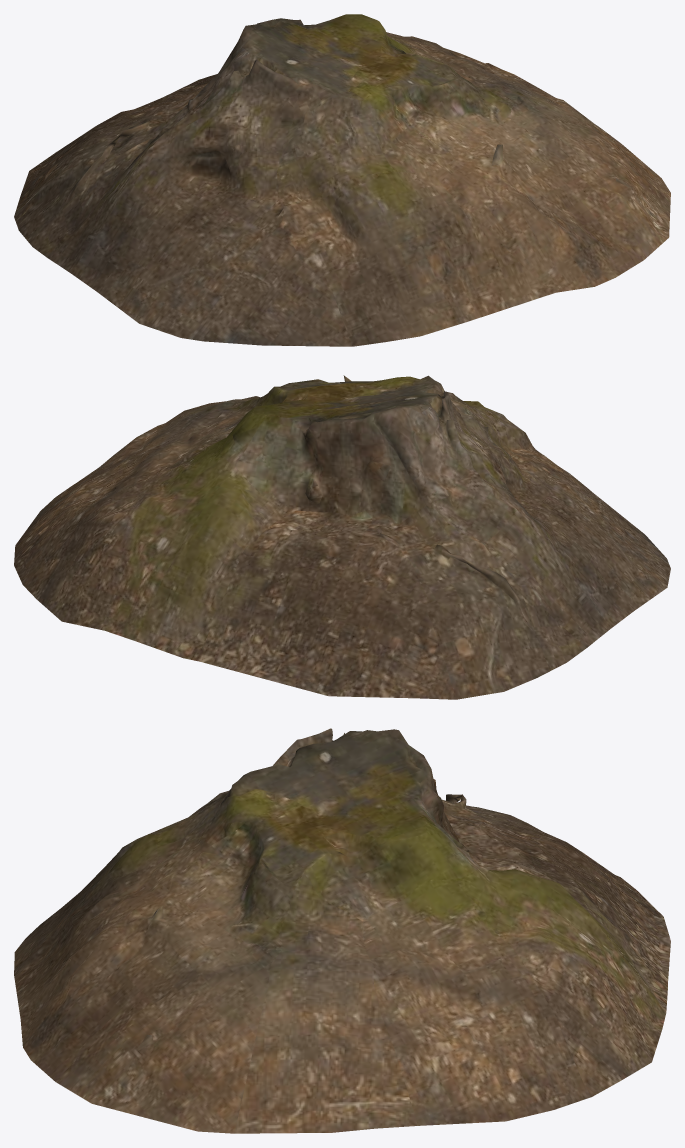
3 views of the same model, one above another, from view 1: azimuth 30°, elevation 25°; view 2: azimuth 150°, elevation 25°; view 3: azimuth 270°, elevation 25° (orthographic). The views are drawn at different scales.
Parts seen in each view (by area): view 1: tree_stump_02_lod1; view 2: tree_stump_02_lod1; view 3: tree_stump_02_lod1.
Boxes of the visible parts, <box> form: tree_stump_02_lod1: <box>14,14,670,346</box>; tree_stump_02_lod1: <box>14,375,670,699</box>; tree_stump_02_lod1: <box>14,728,670,1133</box>.
Bounding box in the file's own units: 1.52 × 0.5196 × 1.39.
1 material, 1 textured.
